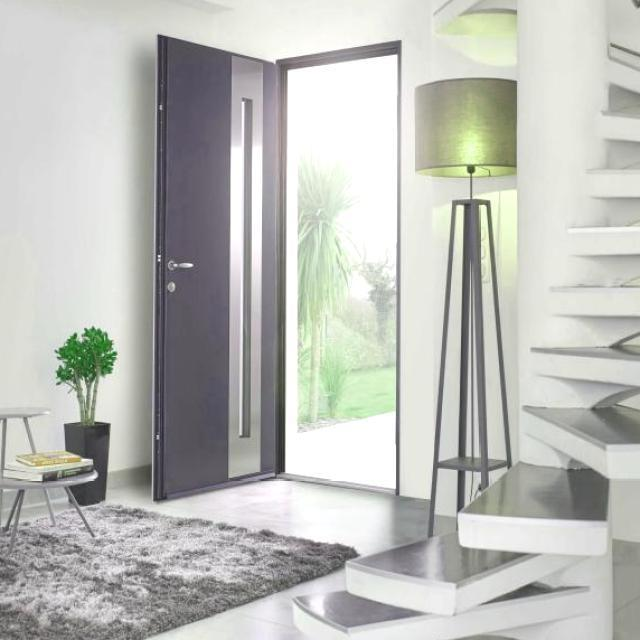door: (151, 32, 279, 500)
